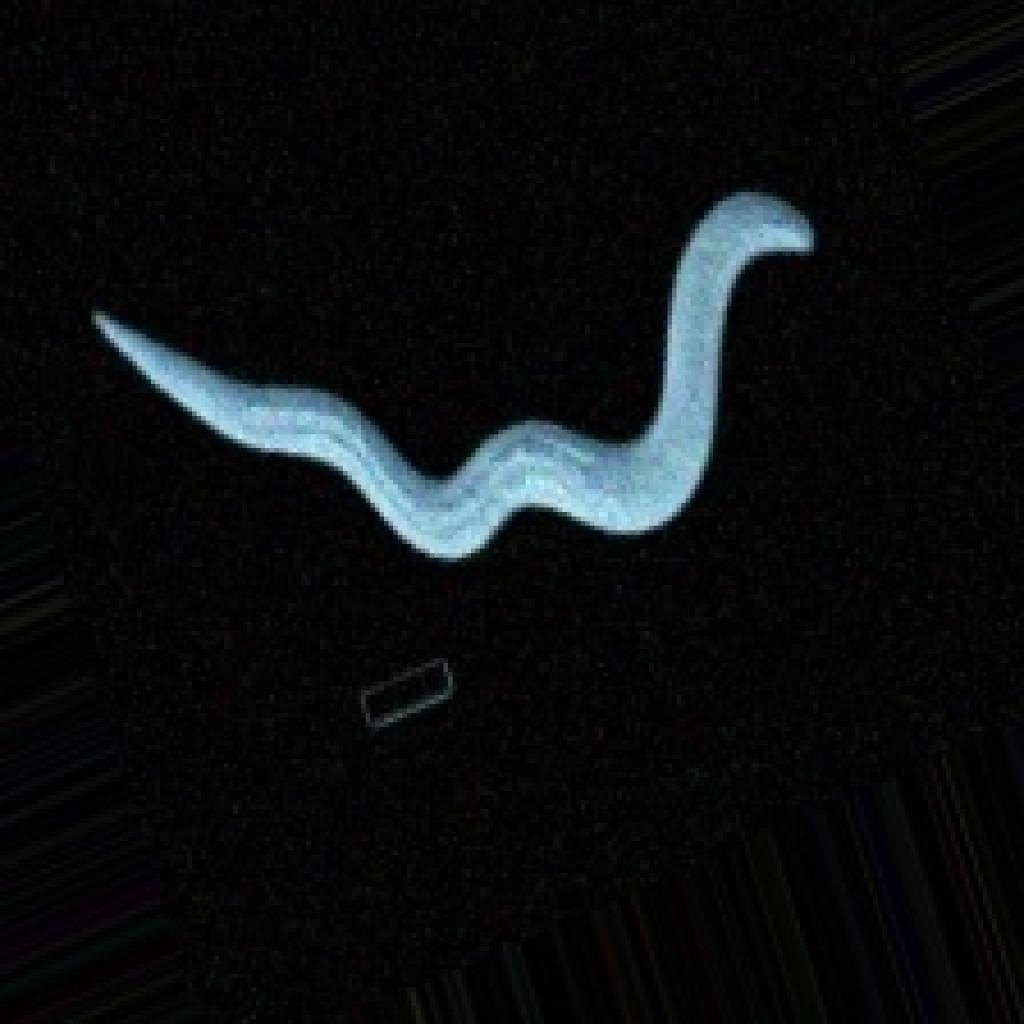Nematode: (82, 183, 818, 562)
